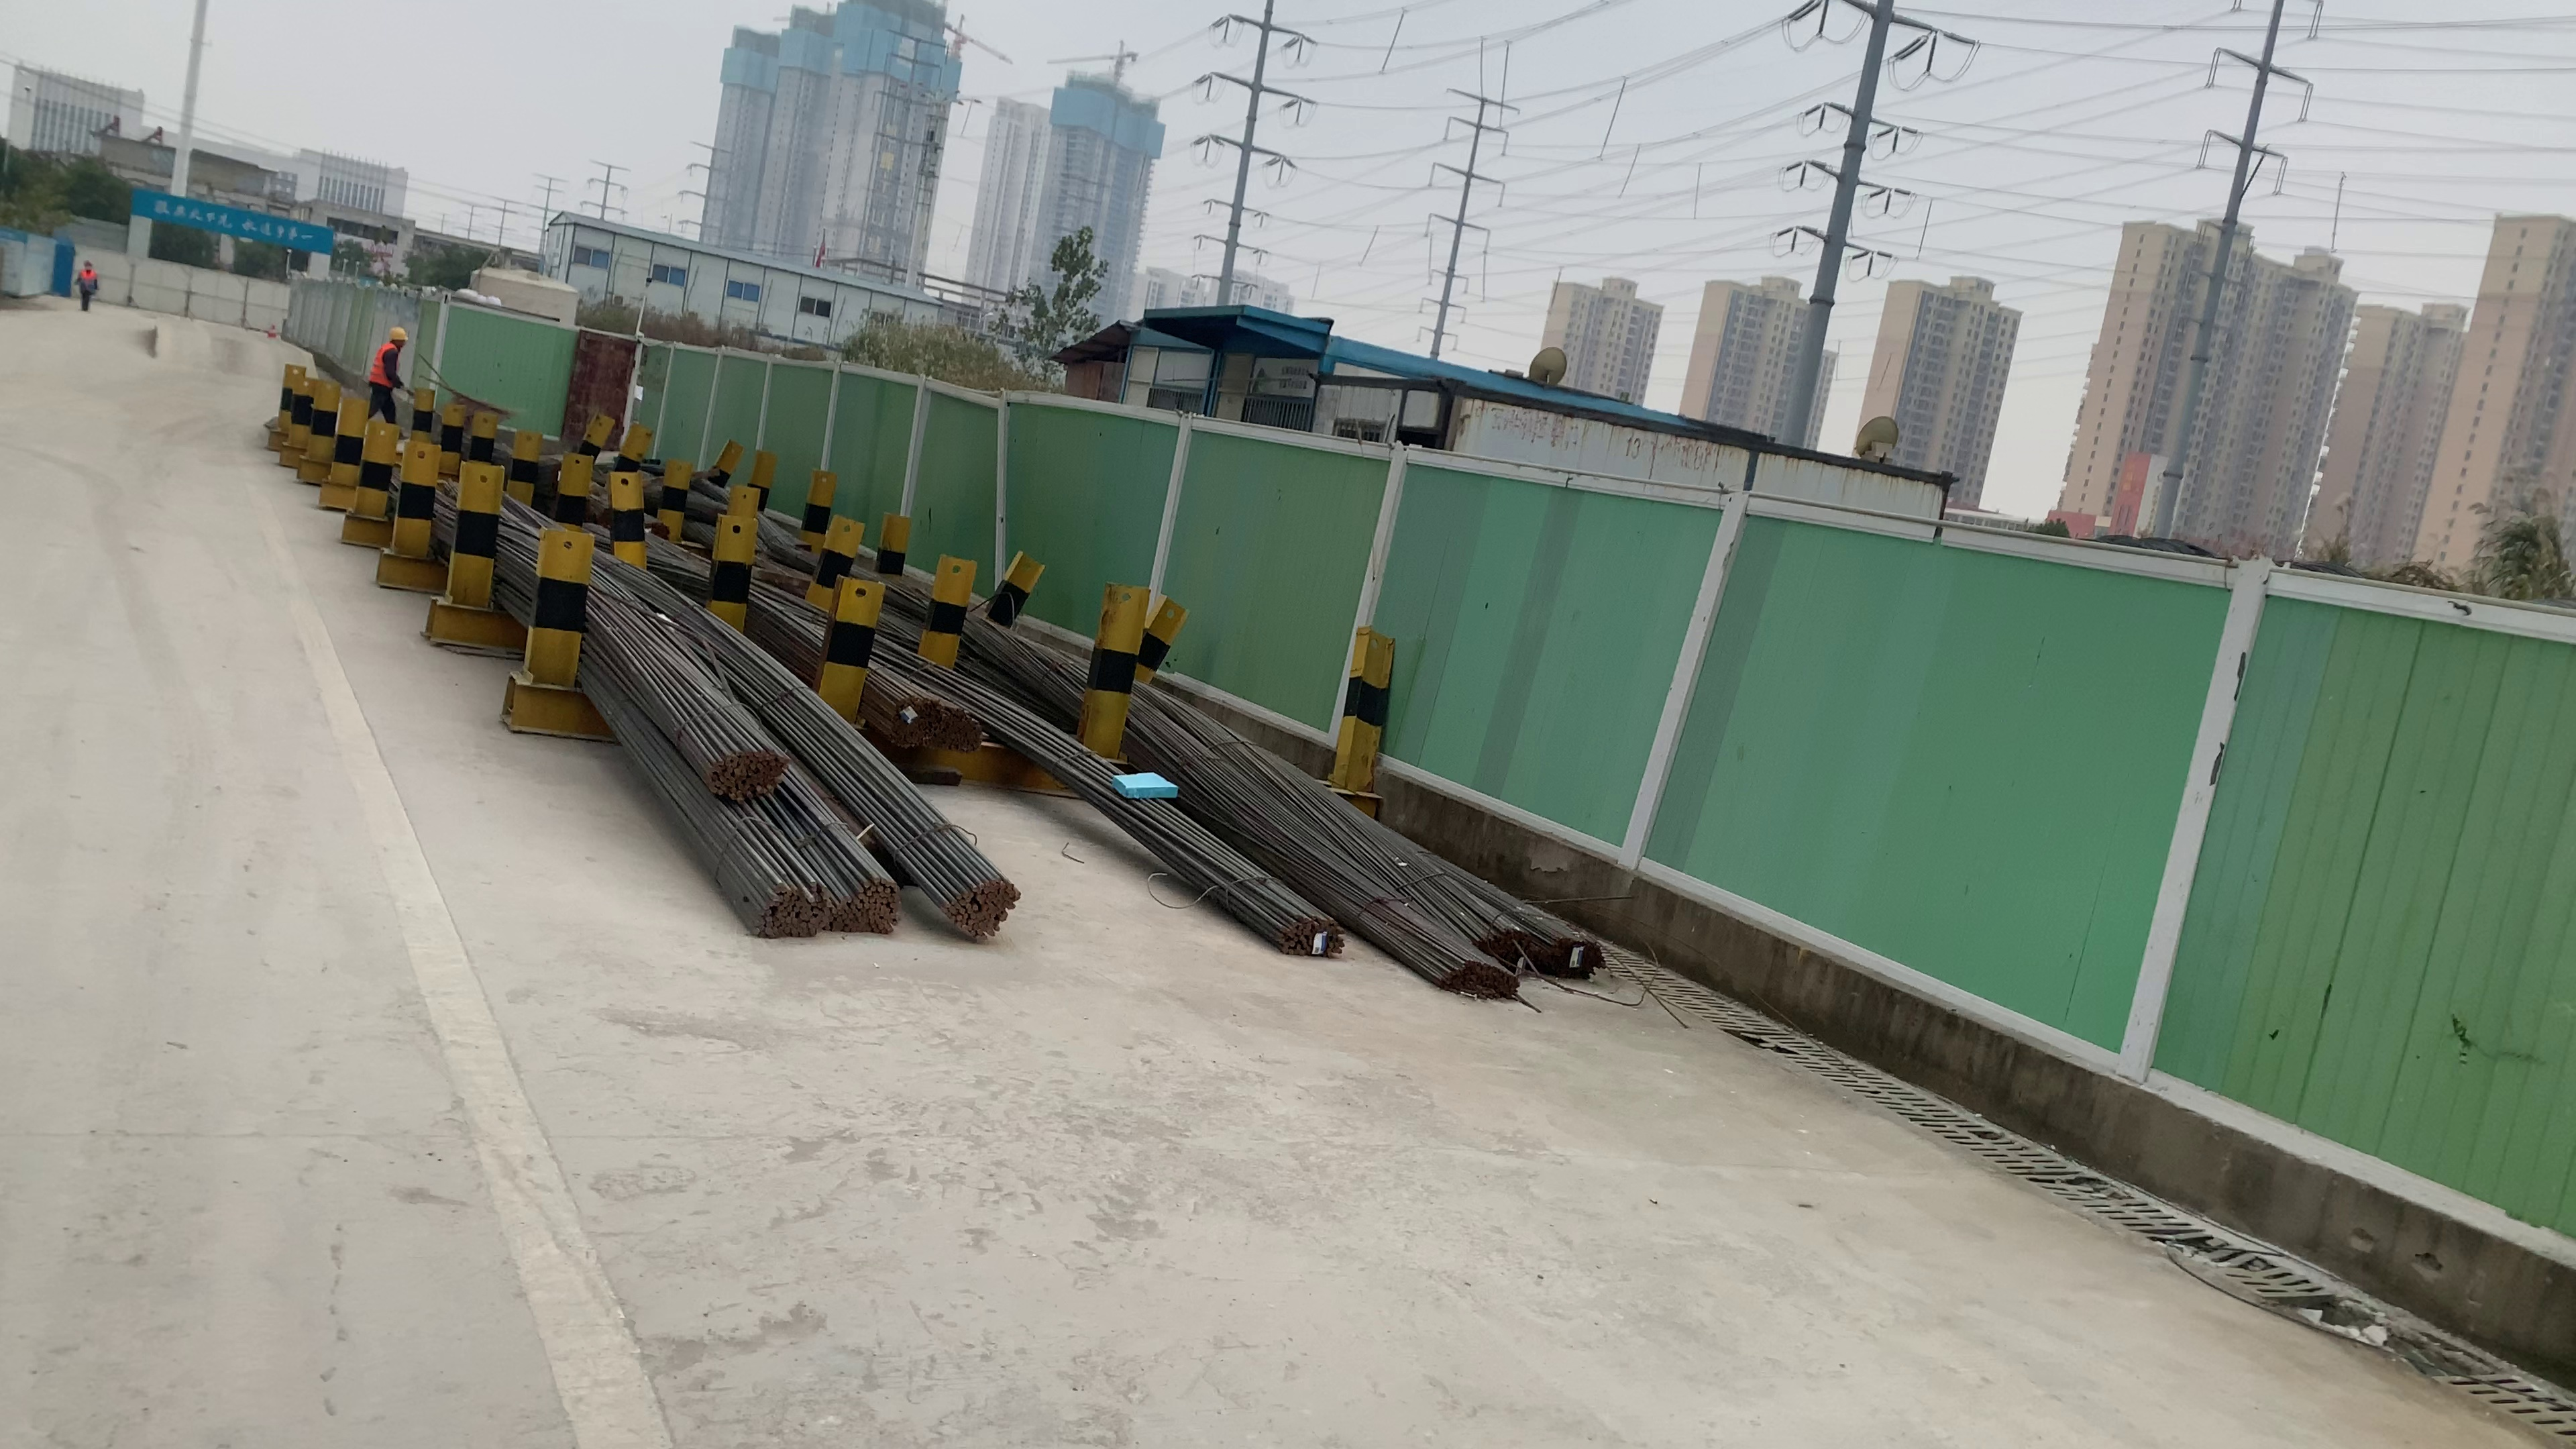rebar: (743, 885, 830, 947), (701, 741, 789, 801), (828, 879, 902, 943), (947, 878, 1014, 947), (1437, 957, 1522, 1000), (1277, 915, 1341, 961), (886, 692, 936, 745), (938, 699, 985, 752), (1552, 934, 1603, 982), (1483, 922, 1539, 961)
